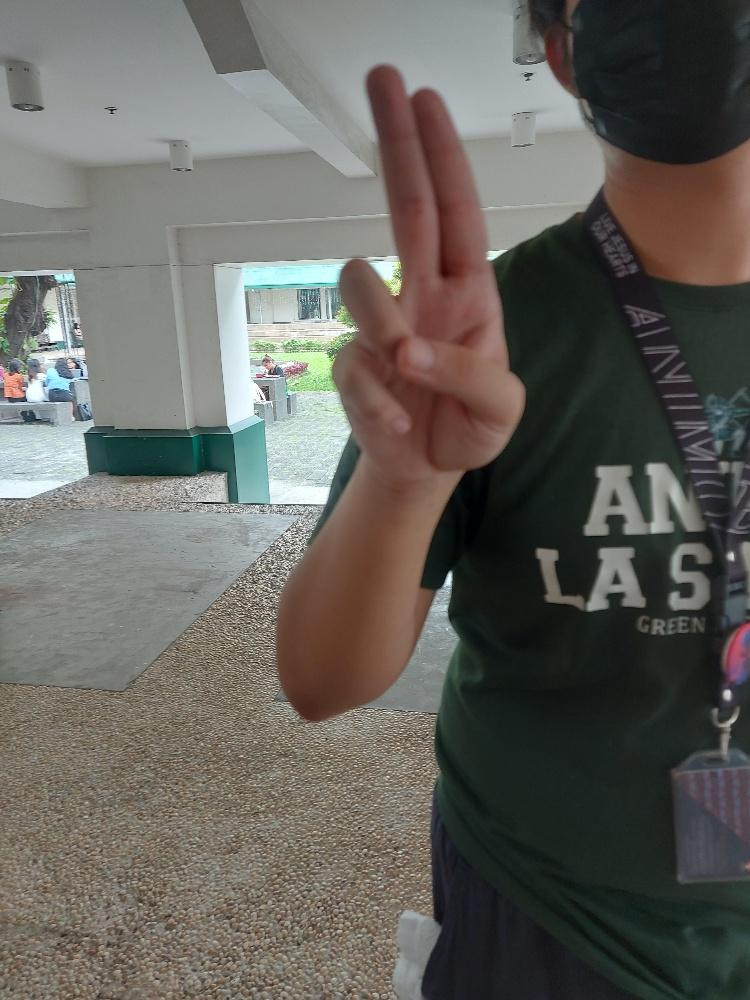u: (327, 59, 529, 477)
